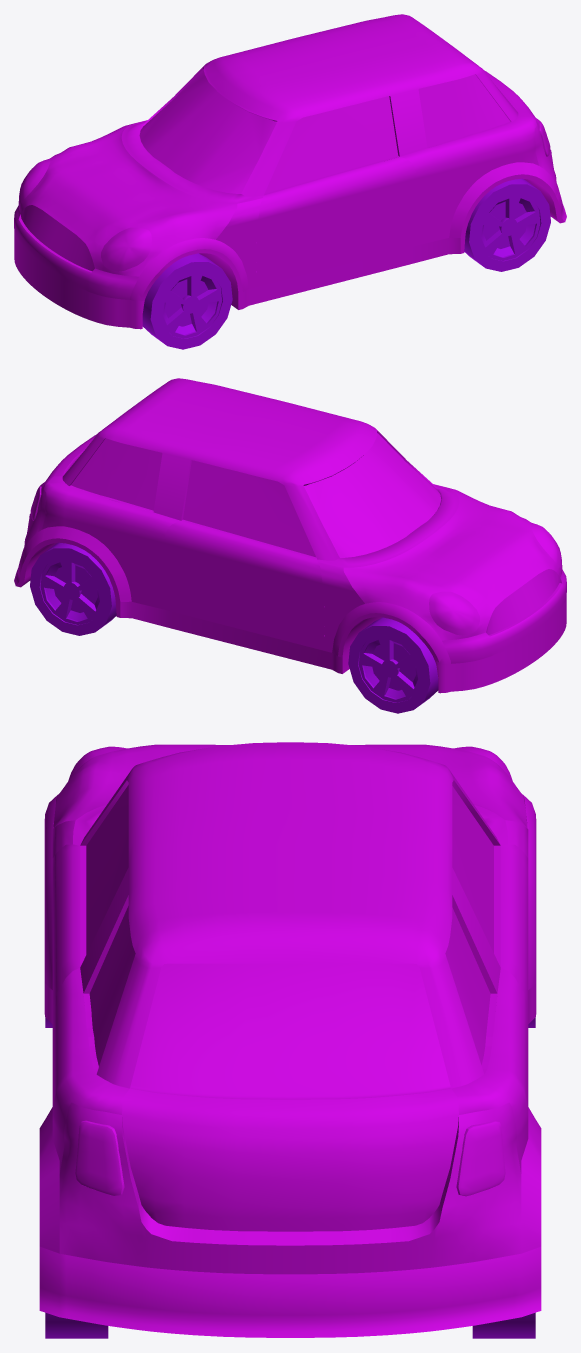
The model's file is MiniCooper.fbx.
The picture shows the model from 3 angles, top to bottom: view 1: azimuth 30°, elevation 25°; view 2: azimuth 150°, elevation 25°; view 3: azimuth 270°, elevation 25°; orthographic projection. The views are drawn at different scales.
Parts seen in each view (by area): view 1: CarRoof, Doors, Hood, BackSide, FrontWheels.001, SideDetails, Wheel, FrontBumper, FronDetail, FRim.001, FRim.002, Plane.001 (+7 smaller); view 2: CarRoof, Doors, Hood, BackSide, FrontWheels, SideDetails, Wheel.001, FrontBumper, FronDetail, FRim.003, FRim, Plane.001 (+7 smaller); view 3: CarRoof, Trunk, BackBumper, Back, BackSide, Hood, Doors, BackLights, Plane.011, Plane.001, Wheel, Wheel.001 (+2 smaller).
Part boxes in pixels (x1,y1,x2,y2): CarRoof: (121, 14, 518, 203); Doors: (256, 157, 417, 286); Hood: (18, 125, 237, 276); BackSide: (400, 112, 538, 246); FrontWheels.001: (142, 253, 232, 349); SideDetails: (238, 237, 465, 309); Wheel: (464, 178, 550, 271); FrontBumper: (14, 233, 144, 329); FronDetail: (14, 205, 138, 299); FRim.001: (479, 194, 540, 260); FRim.002: (160, 272, 222, 338); Plane.001: (130, 238, 248, 301); CarRoof: (62, 378, 459, 567); Doors: (163, 521, 324, 650); Hood: (343, 489, 562, 640); BackSide: (42, 476, 180, 610); FrontWheels: (348, 617, 438, 713); SideDetails: (115, 601, 342, 673); Wheel.001: (30, 542, 116, 635); FrontBumper: (436, 597, 566, 693); FronDetail: (442, 569, 566, 663); FRim.003: (40, 558, 101, 624); FRim: (358, 636, 420, 702); Plane.001: (332, 602, 450, 665); CarRoof: (73, 742, 507, 1099); Trunk: (122, 1088, 458, 1231); BackBumper: (39, 1247, 541, 1337); Back: (59, 1102, 521, 1274); BackSide: (52, 968, 528, 1173); Hood: (53, 744, 527, 828); Doors: (52, 844, 528, 1007); BackLights: (75, 1120, 505, 1196); Plane.011: (39, 1107, 541, 1253); Plane.001: (44, 794, 536, 989); Wheel: (45, 1312, 108, 1338); Wheel.001: (472, 1312, 535, 1338).
Size of the model in its own units: 297 by 113 by 133.
